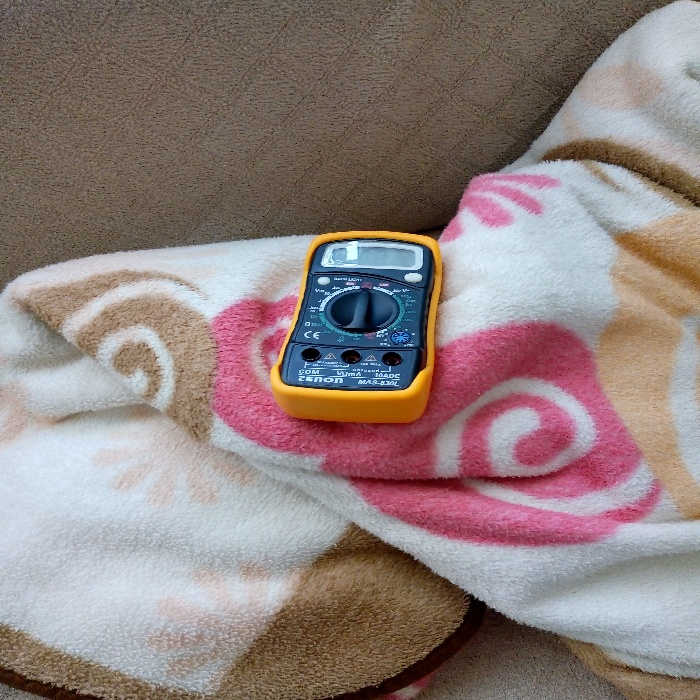multimetre: (260, 196, 452, 431)
